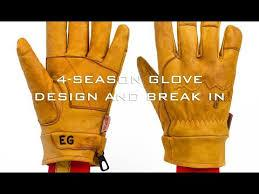gloves: (16, 20, 130, 167), (136, 21, 242, 170)
